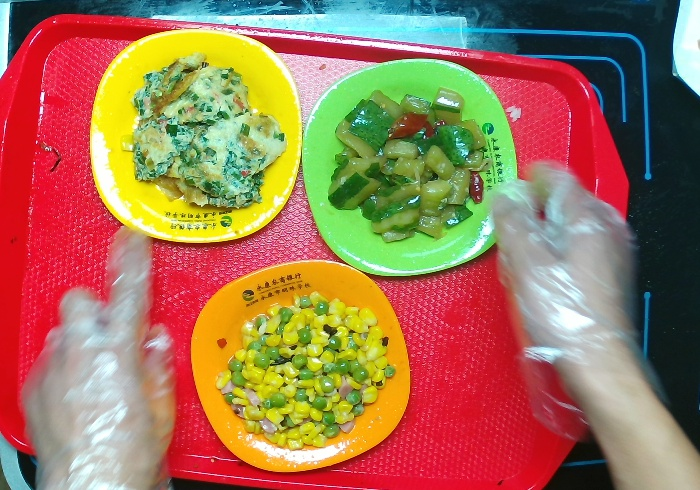YKMZ-Huang_Se_Fang_Die: (91, 25, 301, 246)
YKMZ-Ju_Se_Fang_Die: (189, 255, 411, 473)
YKMZ-Lv_Se_Fang_Die: (304, 58, 521, 278)
